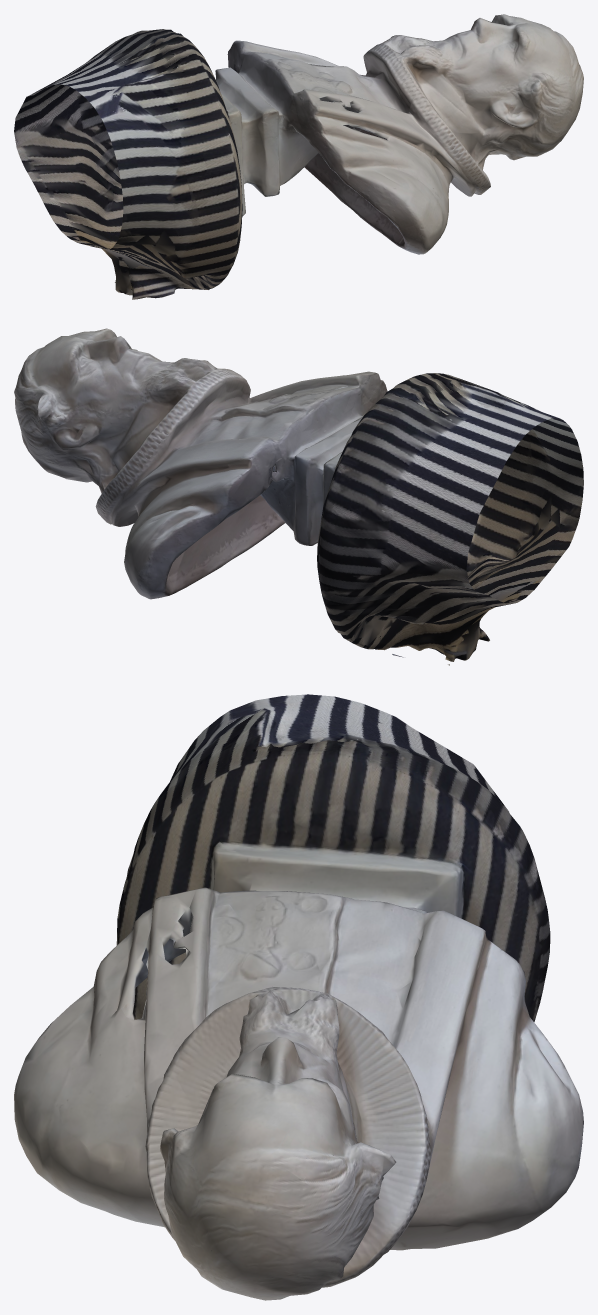
Rendered from 3DModel_LowPoly.fbx.
The picture shows the model from 3 angles, top to bottom: view 1: azimuth 30°, elevation 25°; view 2: azimuth 150°, elevation 25°; view 3: azimuth 270°, elevation 25°; orthographic projection. The views are drawn at different scales.
Visible parts, largest first — view 1: Model; view 2: Model; view 3: Model.
Part boxes in pixels (<box>): Model: <box>14,14,583,299</box>; Model: <box>14,328,583,665</box>; Model: <box>14,694,583,1300</box>.
Size of the model in its own units: 7.23 by 4.52 by 3.44.
1 material, 1 textured.
